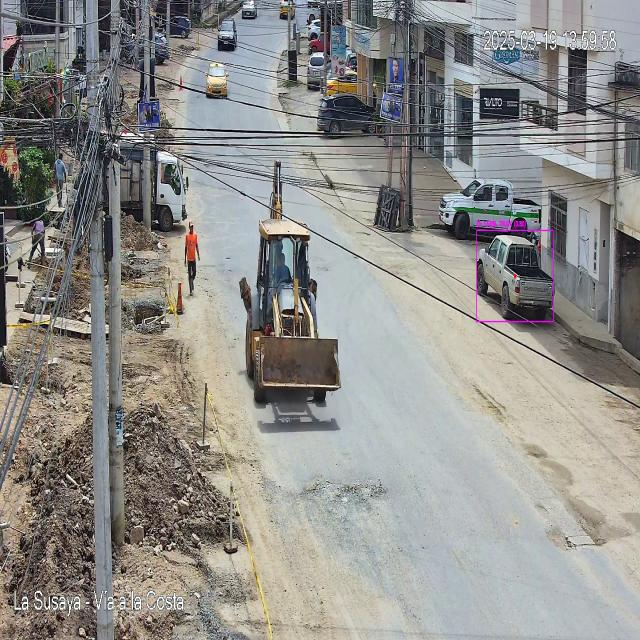TRUCK: (239, 217, 341, 423)
